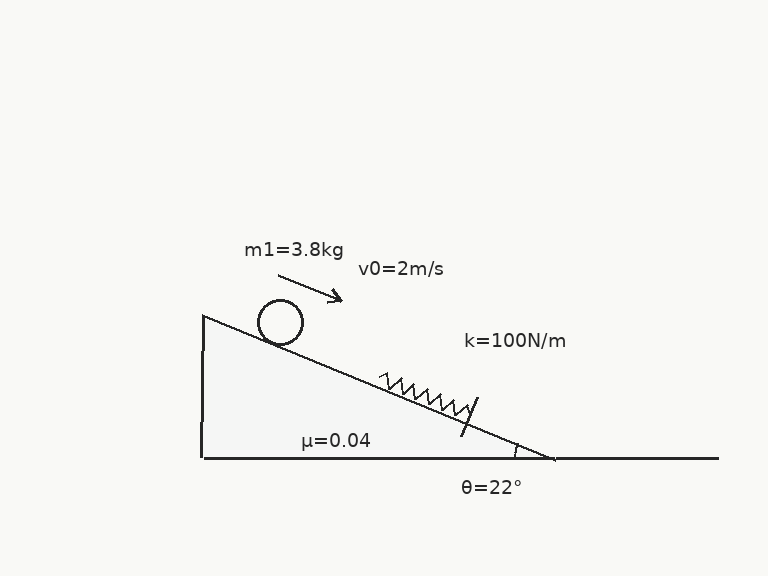ball: (255, 297, 305, 347)
ramp: (201, 314, 557, 460)
spring: (377, 371, 472, 417)
